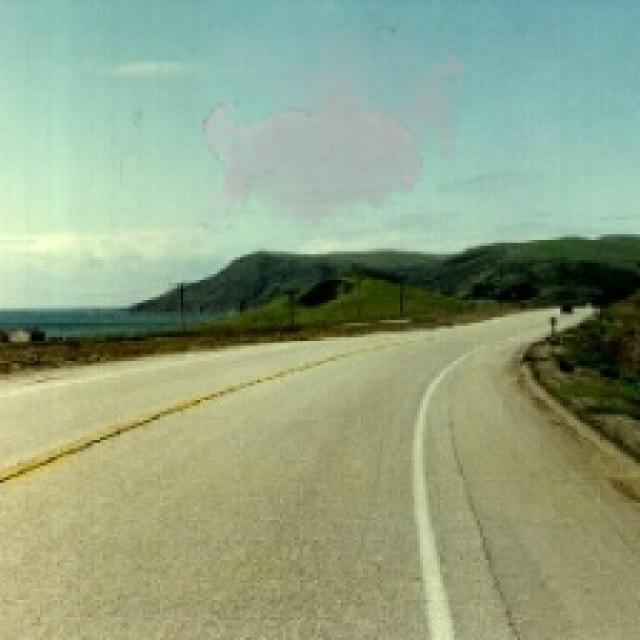smoke: (197, 29, 477, 240)
